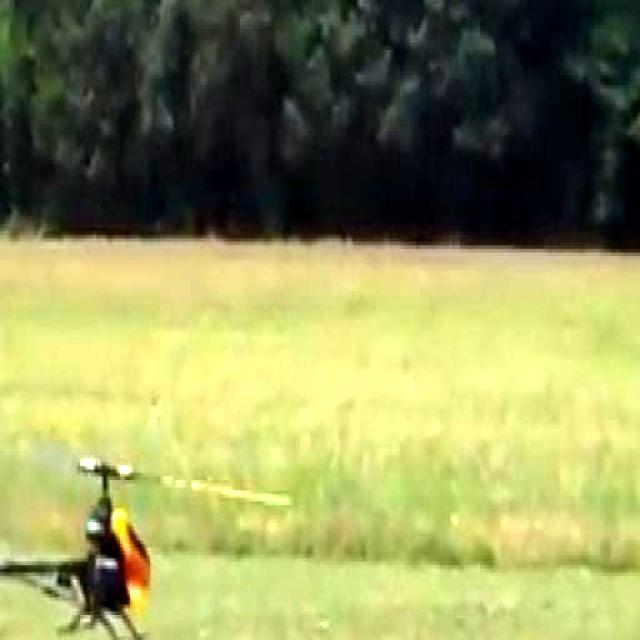drone: (0, 419, 299, 640)
